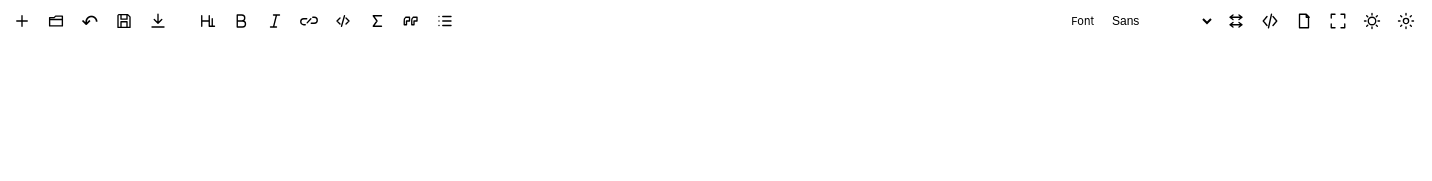
Test: recent files menu › focuses and navigates menuitems with menu keyboard semantics
The width and height of the screenshot is (1432, 181).
Click the button named "Recent files".
click(90, 21)  # box [74,5,106,37]
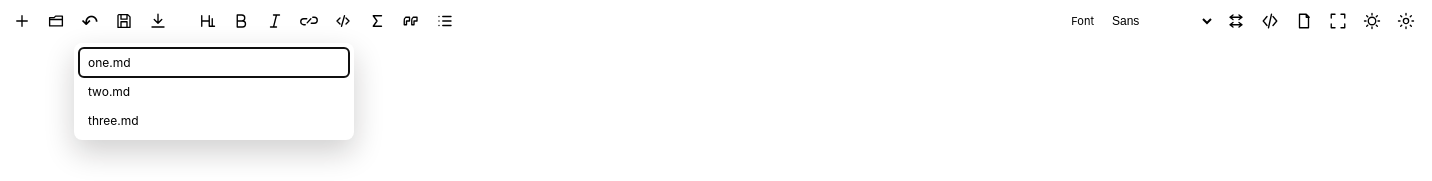
Press ArrowDown in the menu item "one.md", box [79,48,349,77]
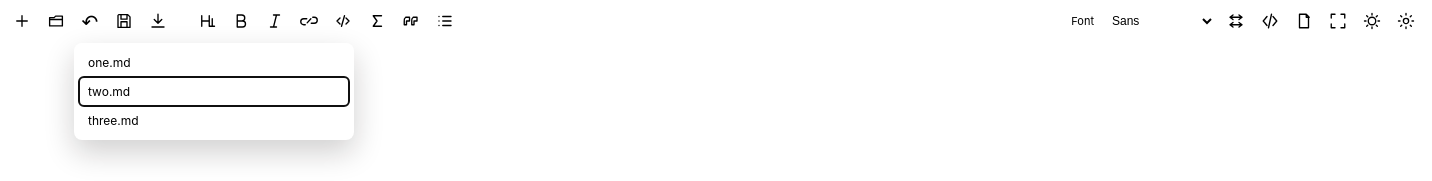
Press End in the menu item "two.md", box [79,77,349,106]
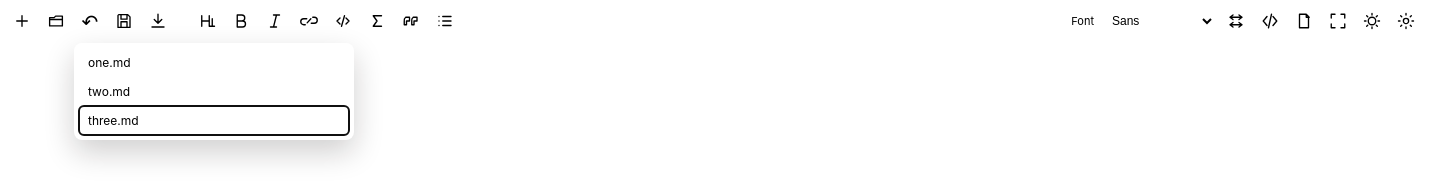
Press Home in the menu item "three.md", box [79,106,349,135]
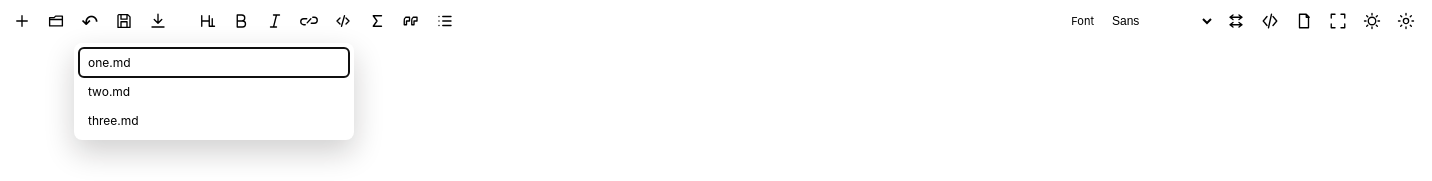
Press ArrowUp in the menu item "one.md", box [79,48,349,77]
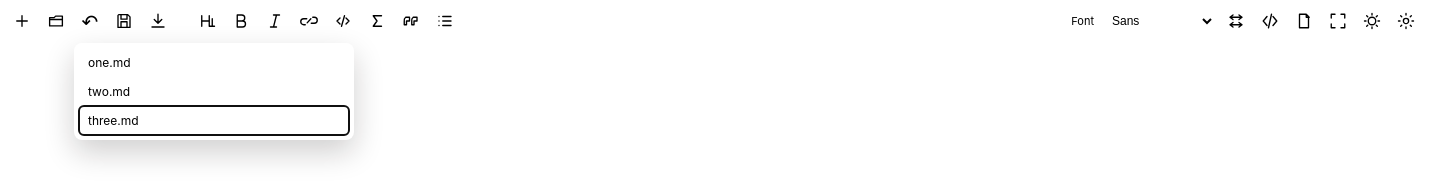
Press Escape in the menu item "three.md", box [79,106,349,135]
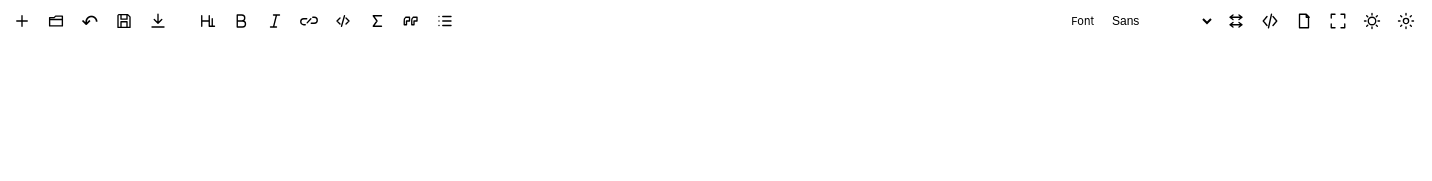
Result: the menu is gone
